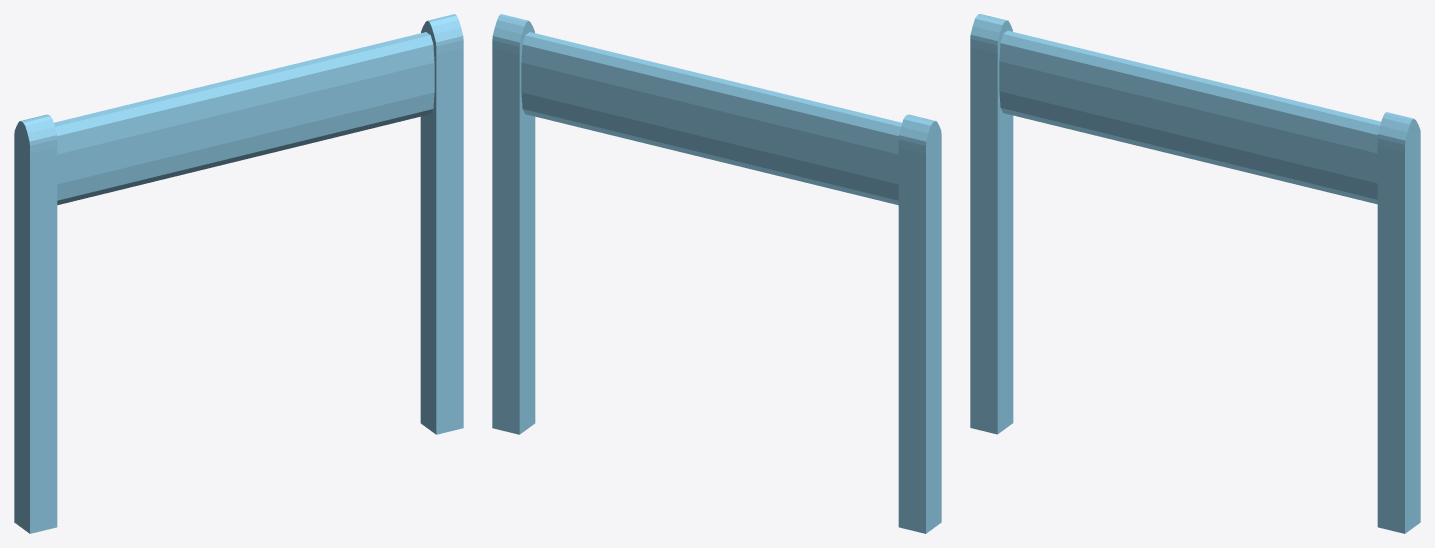
The model's file is Gate.fbx.
3 renders of one model, left to right at view 1: azimuth 30°, elevation 25°; view 2: azimuth 150°, elevation 25°; view 3: azimuth 330°, elevation 25°, orthographic.
Visible parts, largest first — view 1: Cube.002, Cube, Cube.001; view 2: Cube.002, Cube, Cube.001; view 3: Cube.002, Cube.001, Cube.
Boxes of the visible parts, x1,y1,x2,y2 form: Cube.002: [54, 32, 434, 205]; Cube: [14, 114, 57, 533]; Cube.001: [420, 14, 463, 434]; Cube.002: [521, 32, 901, 205]; Cube: [898, 114, 941, 533]; Cube.001: [492, 14, 535, 434]; Cube.002: [999, 30, 1380, 204]; Cube.001: [1377, 112, 1420, 533]; Cube: [970, 14, 1013, 434].
Bounding box in the file's own units: 445 × 400 × 28.06.
